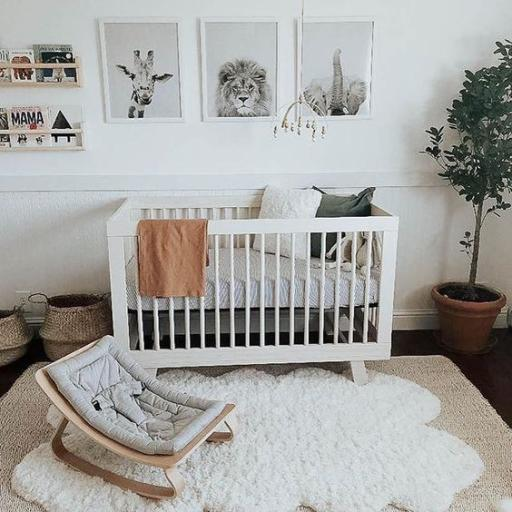crib: (108, 196, 398, 382)
